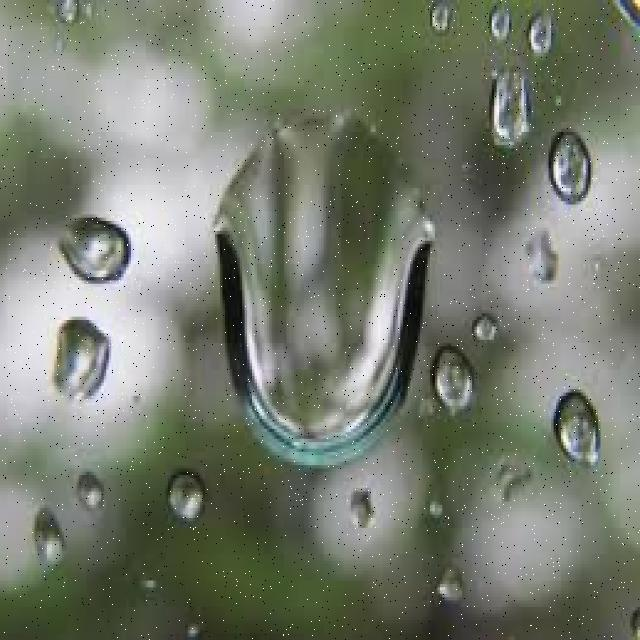raindrop: (196, 97, 441, 486), (38, 302, 121, 419), (46, 201, 134, 308), (473, 54, 535, 173), (544, 367, 608, 473), (539, 115, 597, 222), (426, 338, 483, 426), (19, 496, 77, 574), (159, 460, 212, 530), (68, 446, 110, 528), (522, 2, 558, 62)
